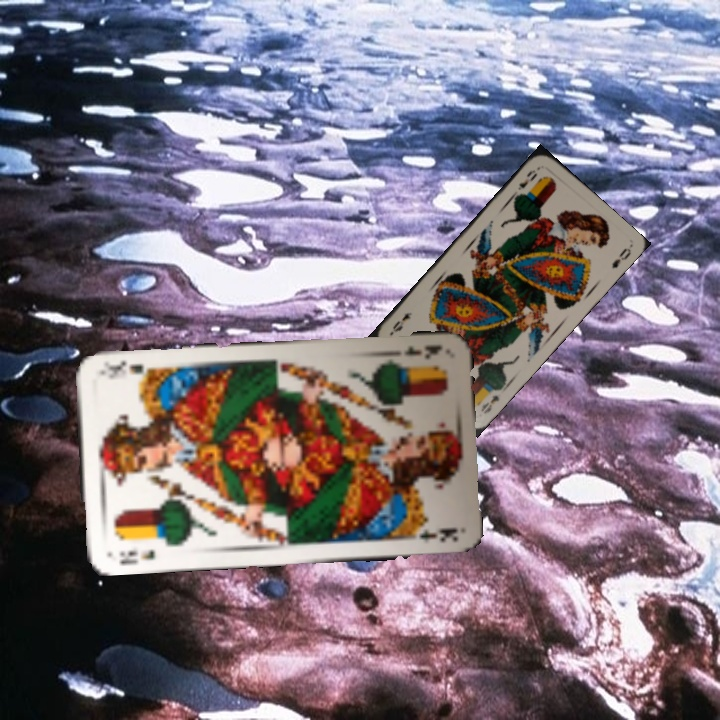EK: (387, 341, 445, 361), (115, 546, 158, 567)
EO: (514, 165, 540, 193), (477, 391, 502, 417)
